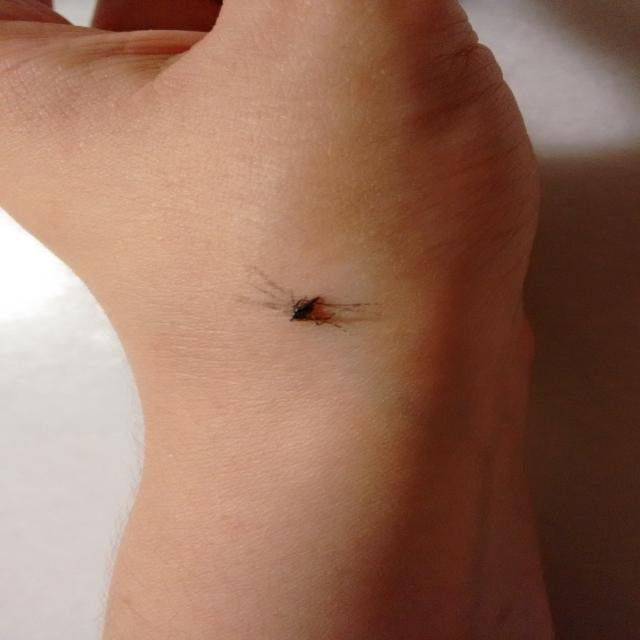albopictus: (242, 277, 382, 338)
